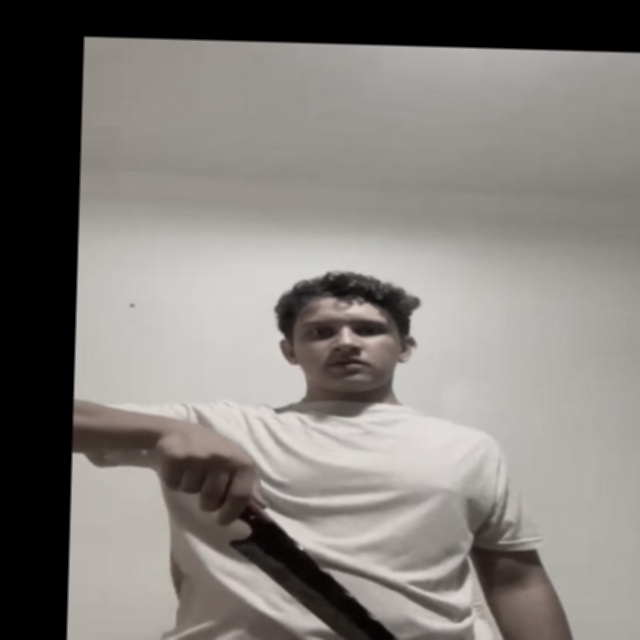Sharp-Object: (222, 525, 455, 640)
